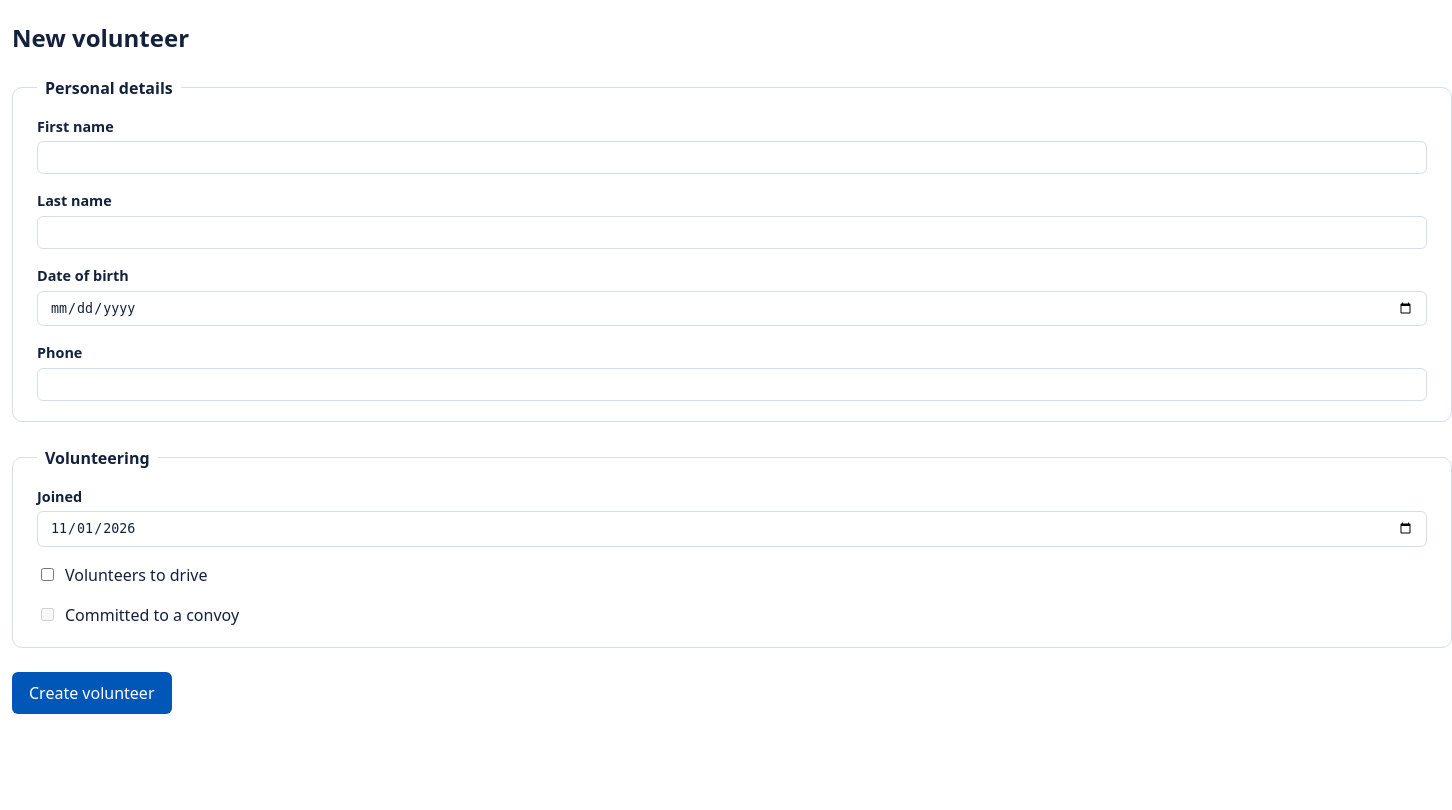
Test: shows client validation for the required names
Click the button "Create volunteer". click: (92, 692)
box: [12,672,172,714]
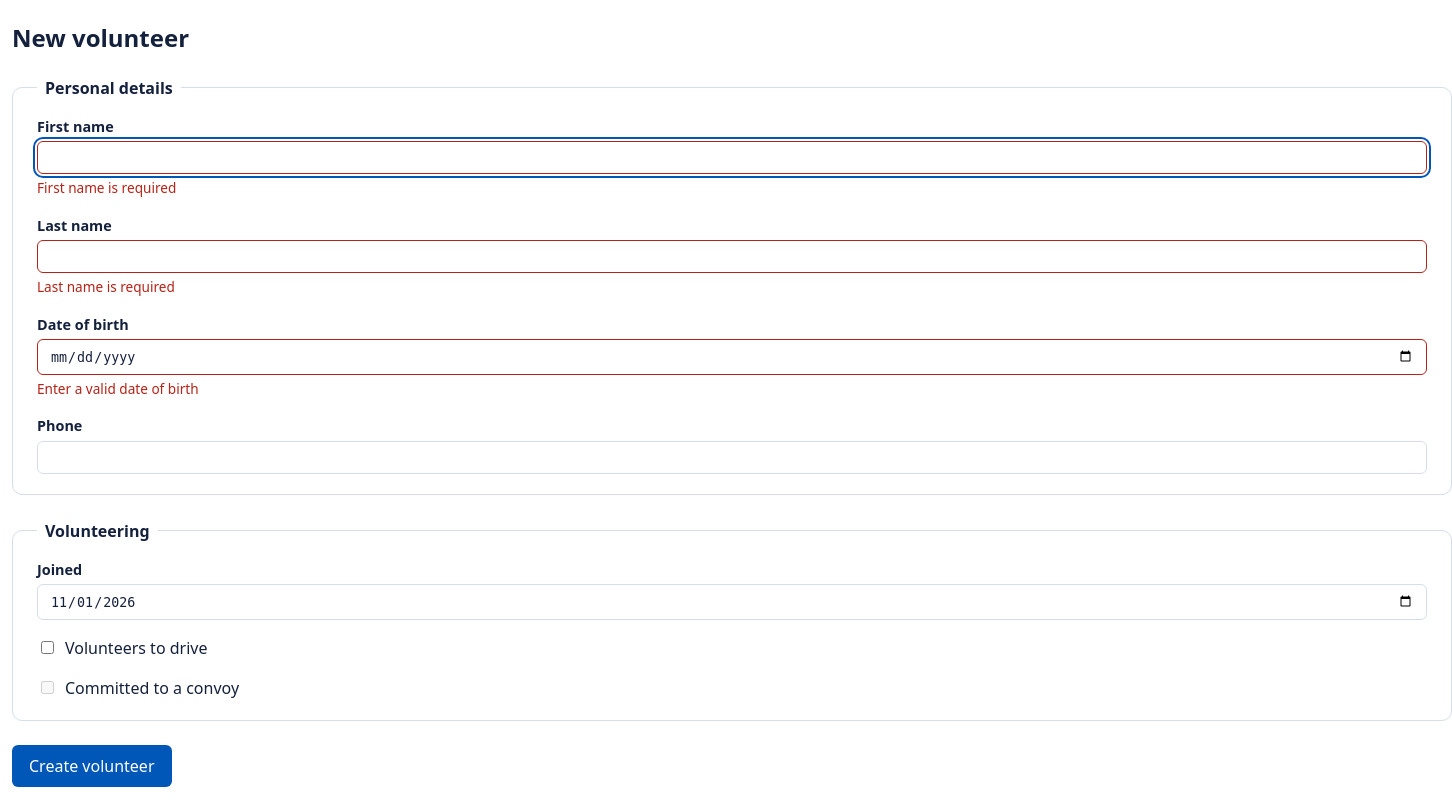
Expected: the text "First name is required" is shown, [37,178,176,197]
Expected: the text "Last name is required" is shown, [37,277,175,296]
